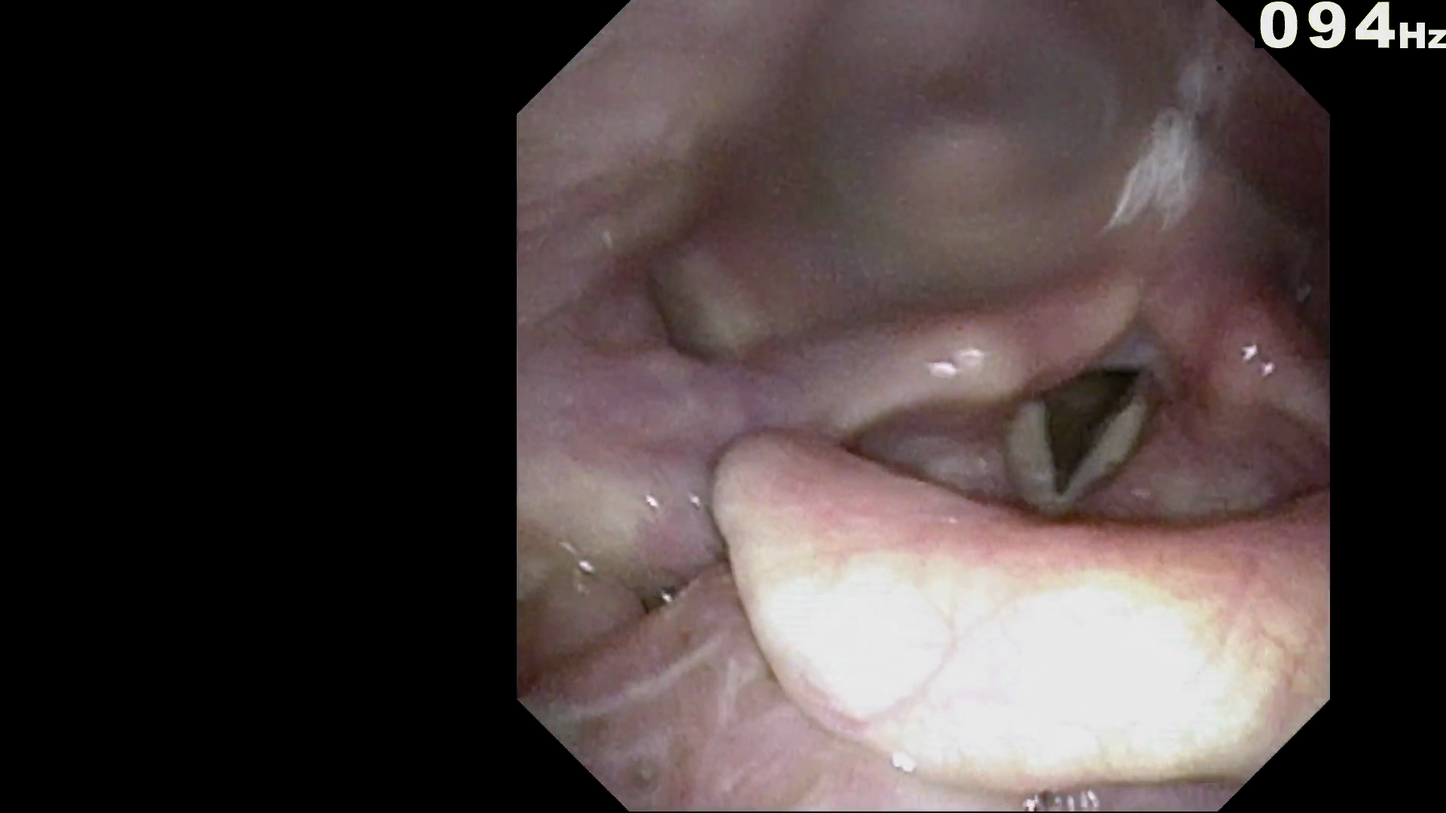epiglottis: (751, 474, 1311, 699)
trachea: (1016, 359, 1159, 490)
